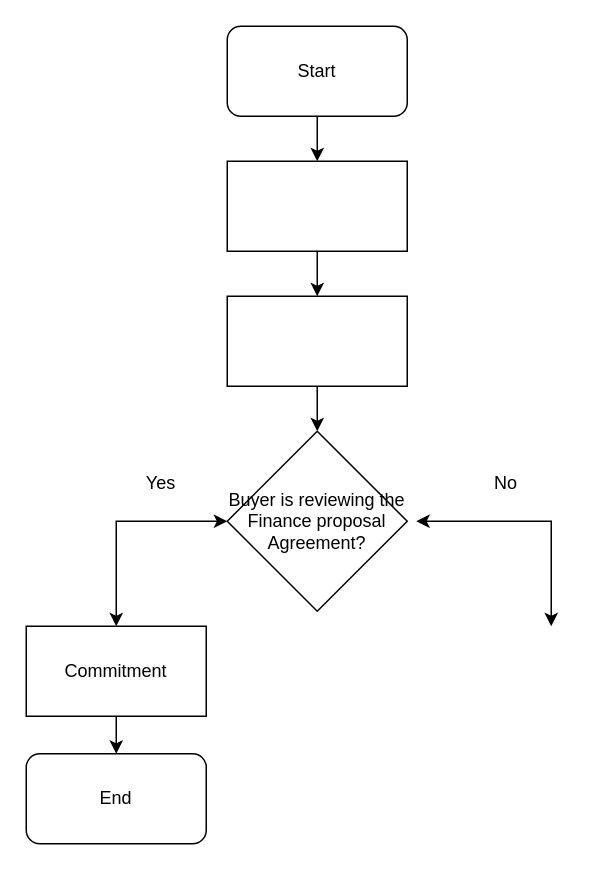
Some shapes in this 591 by 870 pixel diagram are drawn without their labels. The shapes that lost their labels are listed below. From the top down, each one's centre as x and y in pixels, then its label:
(316,205): Approval by all counterparties
(316,340): Finance is building the proposition
